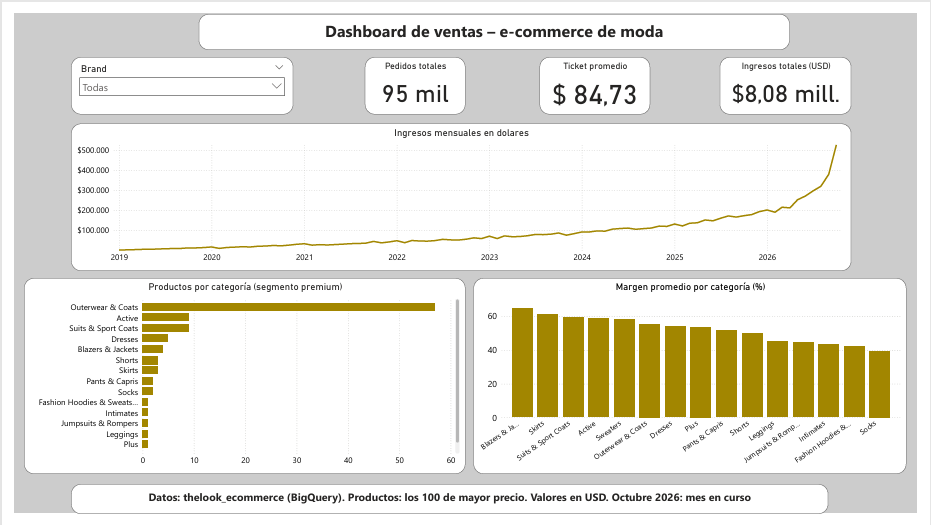

The dashboard page shown, as its layout file describes it:
{"tool":"powerbi","page":{"name":"Página 1","canvas":[1804,1000],"ordinal":0},"visuals":[{"type":"lineChart","title":"Ingresos mensuales en dolares","fields":{"Y":["Sum(ventas_mensuales_limpio.ingresos)"],"Category":["ventas_mensuales_limpio.mes.Variación.Jerarquía de fechas.Año","ventas_mensuales_limpio.mes.Variación.Jerarquía de fechas.Trimestre","ventas_mensuales_limpio.mes.Variación.Jerarquía de fechas.Mes","ventas_mensuales_limpio.mes.Variación.Jerarquía de fechas.Día"]},"box":[114.5,218.9,1558.2,295.2],"z":0},{"type":"card","title":"Pedidos totales","fields":{"Values":["Sum(ventas_mensuales_limpio.pedidos)"]},"box":[700.8,86.3,200.8,114.5],"z":1000},{"type":"card","title":"Ingresos totales (USD)","fields":{"Values":["Sum(ventas_mensuales_limpio.ingresos)"]},"box":[1409.6,86.3,263.1,114.5],"z":2000},{"type":"columnChart","title":"Margen promedio por categoría (%)","fields":{"Category":["productos_limpio.category"],"Y":["Avg(productos_limpio.margen_pct)"]},"box":[917.7,528.1,865.5,391.6],"z":3000},{"type":"slicer","fields":{"Values":["productos_limpio.brand"]},"box":[114.5,86.3,443.8,114.5],"z":4000},{"type":"barChart","title":"Productos por categoría (segmento premium)","fields":{"Category":["productos_limpio.category"],"Y":["CountNonNull(productos_limpio.name)"]},"box":[20.1,528.1,881.5,391.6],"z":5000},{"type":"textbox","box":[369.5,0,1180.7,72.3],"z":6000},{"type":"card","title":"Ticket promedio","fields":{"Values":["ventas_mensuales_limpio.Ticket promedio"]},"box":[1050.2,86.3,220.9,114.5],"z":7000},{"type":"textbox","box":[114.5,939.8,1512,60.2],"z":7001}]}

Visuals, with their boxes in screenshot pixels (x1, y1, x2, y2), scaled from the page's 1804x1000 canvas onto the 931x525 screenshot:
"Ingresos mensuales en dolares" lineChart: [59,115,863,270]
"Pedidos totales" card: [362,45,465,105]
"Ingresos totales (USD)" card: [727,45,863,105]
"Margen promedio por categoría (%)" columnChart: [474,277,920,483]
slicer - productos_limpio.brand: [59,45,288,105]
"Productos por categoría (segmento premium)" barChart: [10,277,465,483]
textbox: [191,0,800,38]
"Ticket promedio" card: [542,45,656,105]
textbox: [59,493,839,524]
